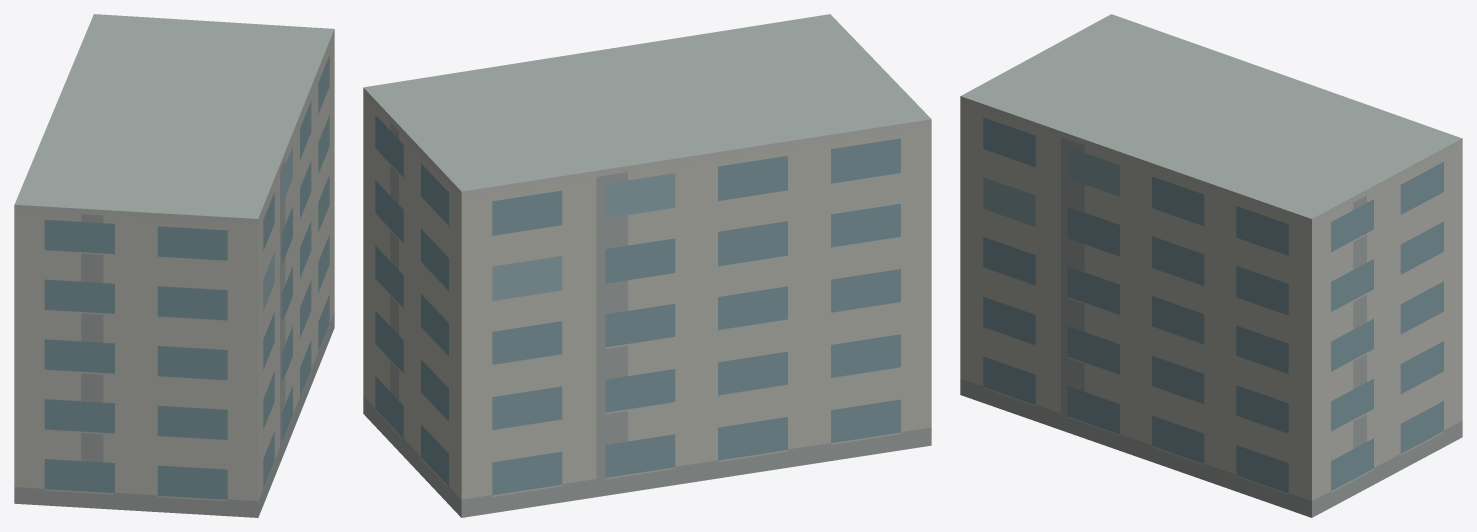
File: survey-upis-32921935.glb
3 renders of one model, left to right at view 1: azimuth 30°, elevation 25°; view 2: azimuth 150°, elevation 25°; view 3: azimuth 270°, elevation 25°, orthographic. The views are drawn at different scales.
Parts seen in each view (by area): view 1: survey-upis-32921935.tmp; view 2: survey-upis-32921935.tmp; view 3: survey-upis-32921935.tmp.
Boxes of the visible parts, x1,y1,x2,y2 form: survey-upis-32921935.tmp: [14, 14, 334, 517]; survey-upis-32921935.tmp: [363, 14, 931, 517]; survey-upis-32921935.tmp: [960, 14, 1462, 517].
Bounding box in the file's own units: 18.84 × 12.8 × 19.5.
